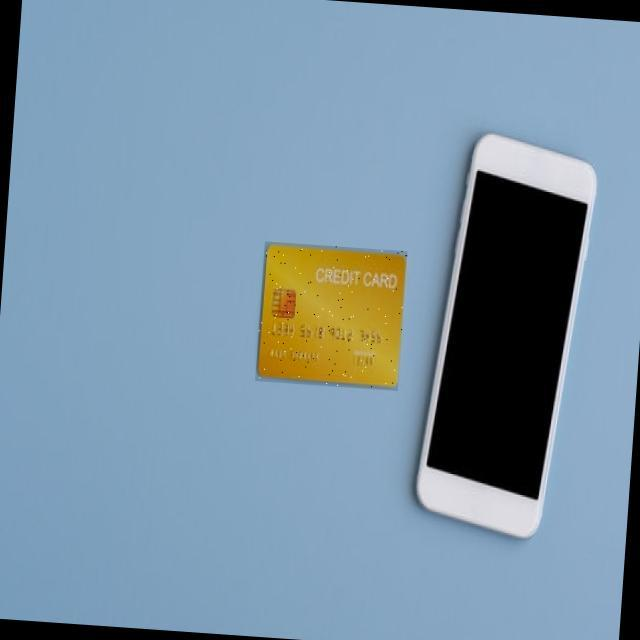payment_card: (255, 240, 407, 389)
